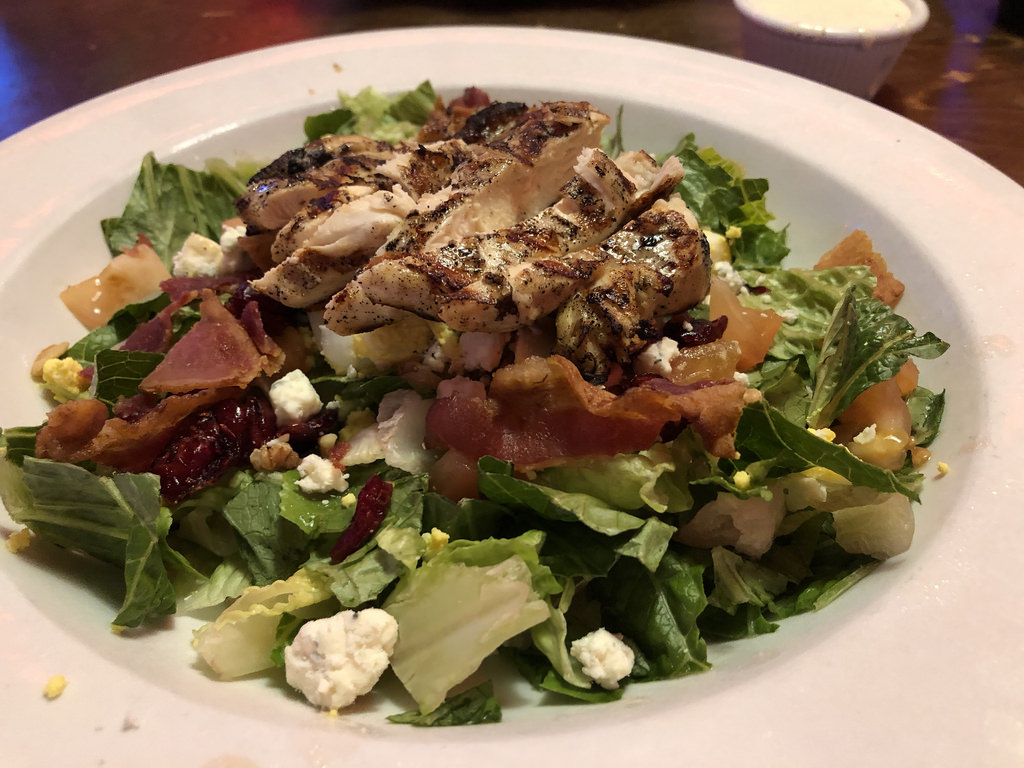chopped lettuce: (463, 468, 729, 668)
